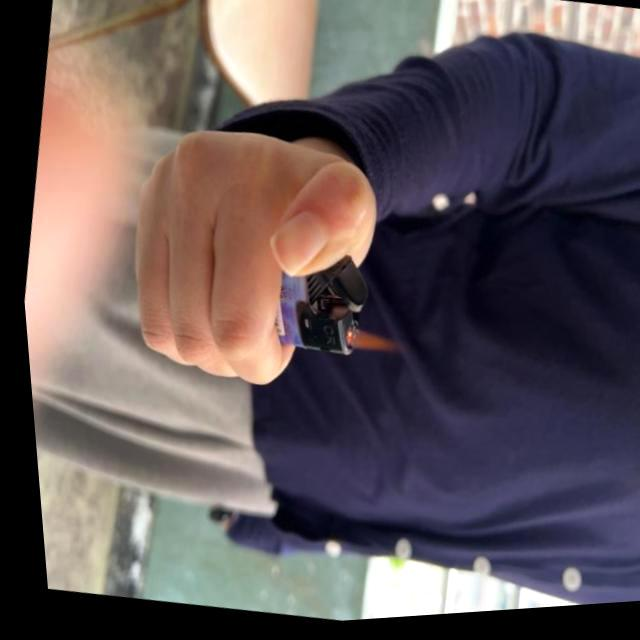fire: (337, 326, 401, 366)
